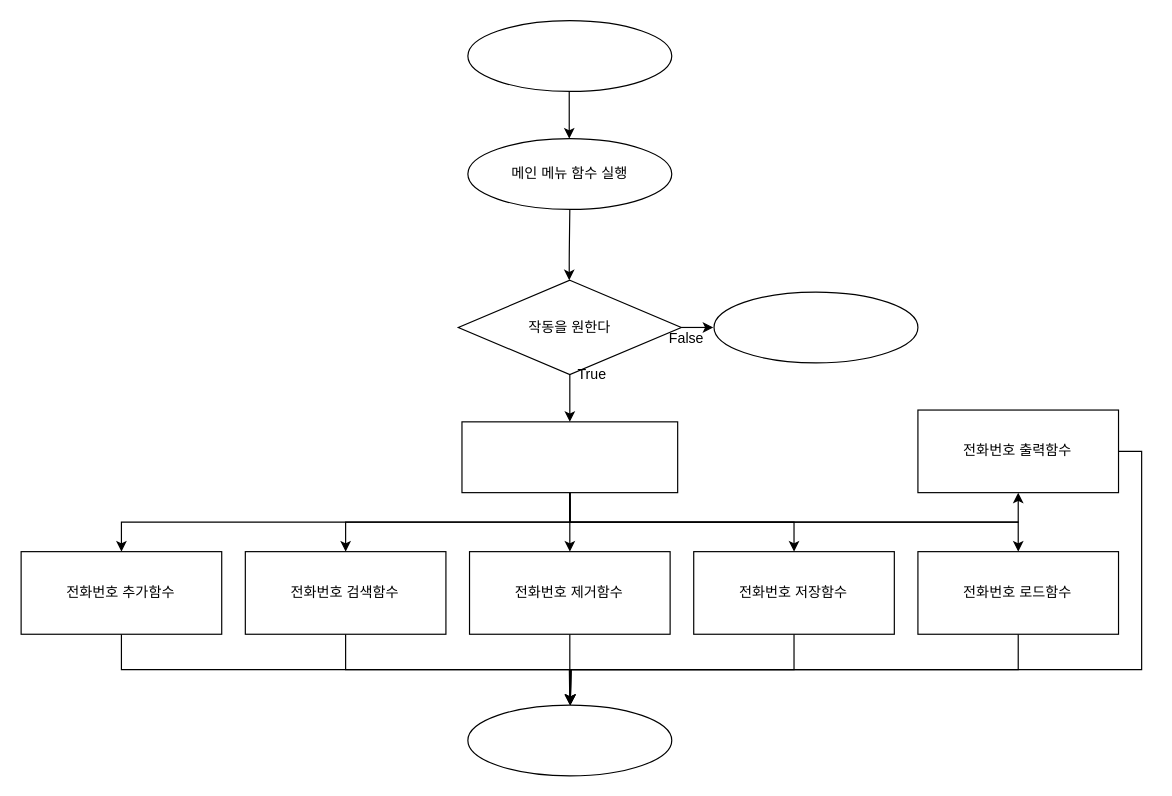
Some shapes in this 1172 by 796 pixel diagram are drawn without their labels. The box of each missing label's shape, as (x1, y1, x2, y2) in pixels:
메인 메뉴 함수 호출: (467, 704, 672, 776)
사용자로 기능을 입력받는 함수: (461, 421, 678, 493)
프로그램 시작: (467, 19, 672, 91)
프로그램 종료 (메인함수 종료): (713, 291, 918, 363)
